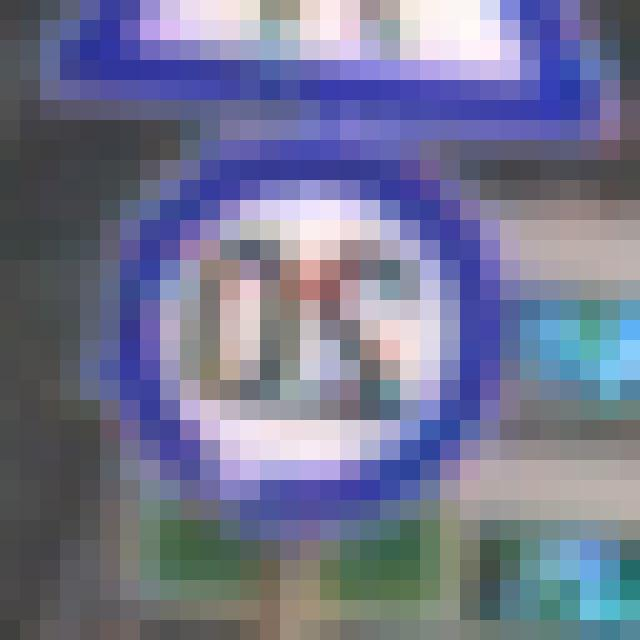SPEED LIMIT 20: (93, 138, 500, 526)
